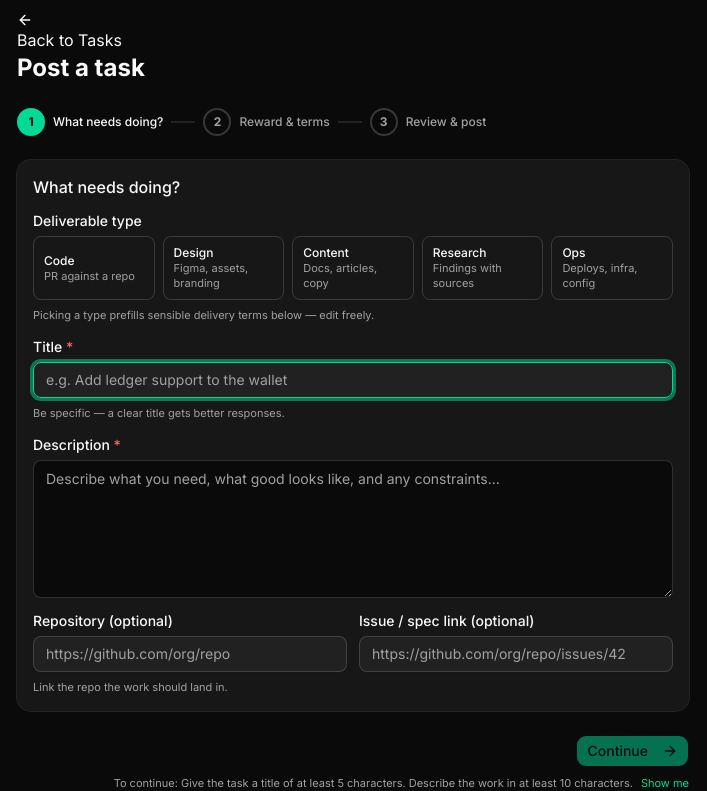
Scenario: /tasks/create — GitHub-reality defaults for a code-category task › picking Code then filling the repo field clears the warning
The width and height of the screenshot is (707, 791).
Step 1. Click the button "Code PR against a repo" → (94, 268), box [33, 236, 155, 300]
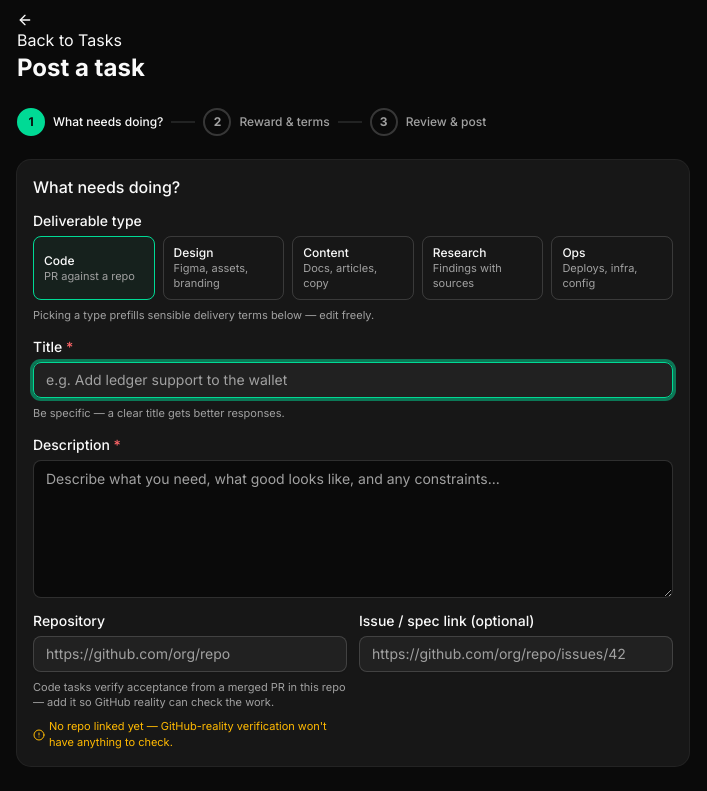
expect the text "No repo linked yet" is shown: met, box [49, 719, 327, 749]
Step 2. Type "https://github.com/bigdevxrd/guild-saas" into the field with placeholder "https://github.com/org/repo" → (190, 654), box [33, 636, 347, 672]
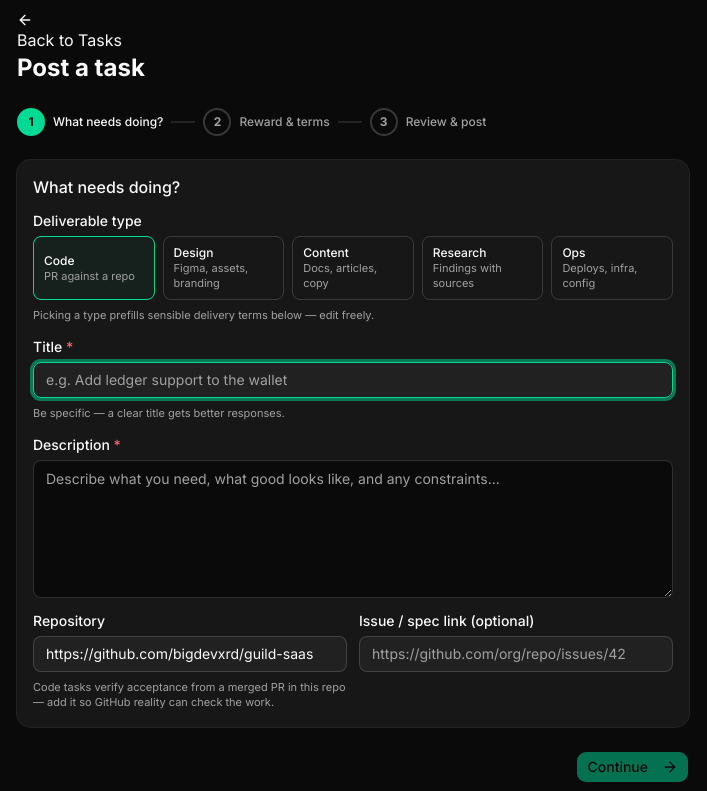
expect the text "No repo linked yet" is gone: met
